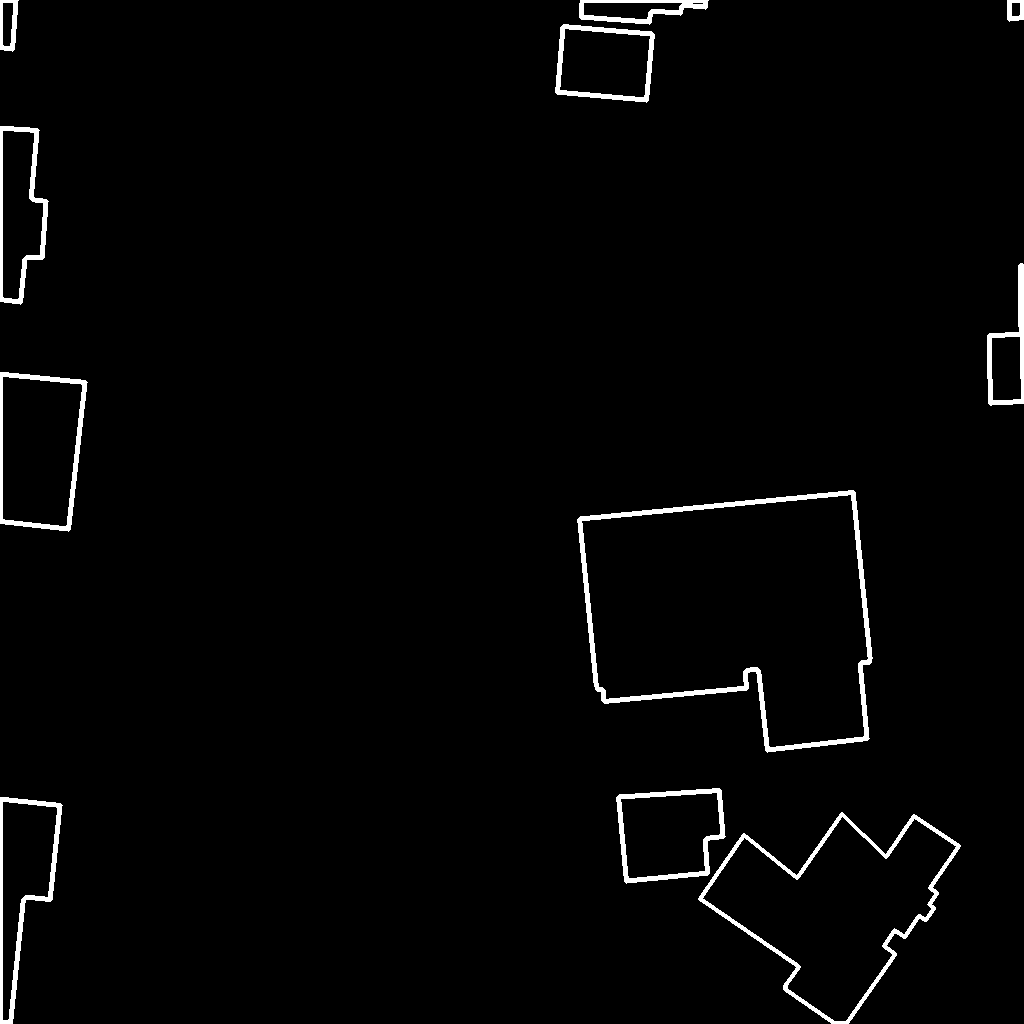building: (579, 492, 871, 751), (700, 814, 960, 1024), (0, 799, 61, 1024), (0, 374, 86, 530), (618, 790, 724, 882), (0, 128, 47, 303), (557, 26, 654, 101), (989, 265, 1024, 404), (581, 0, 707, 23), (0, 0, 17, 50), (1009, 0, 1024, 20)
